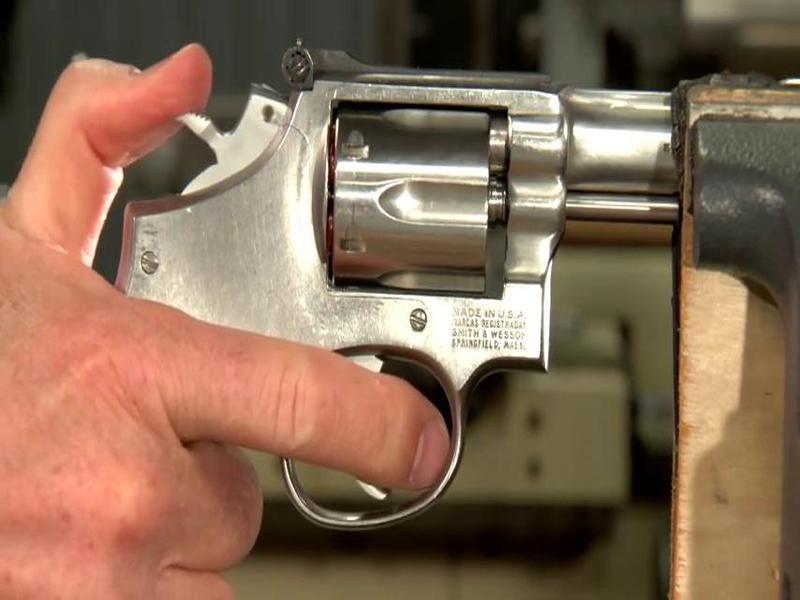Revolver: (107, 38, 665, 561)
